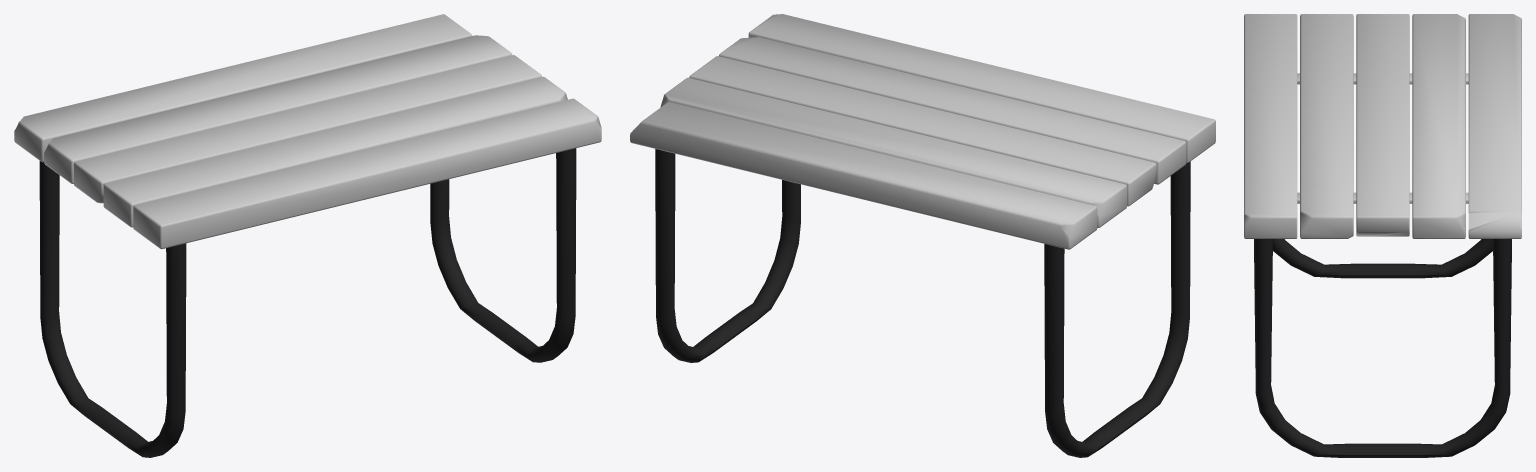
The model's file is Table-1__4p_.fbx.
The picture shows the model from 3 angles, left to right: view 1: azimuth 30°, elevation 25°; view 2: azimuth 150°, elevation 25°; view 3: azimuth 270°, elevation 25°; orthographic projection. The views are drawn at different scales.
Visible parts, largest first — view 1: Table-1 (4p); view 2: Table-1 (4p); view 3: Table-1 (4p).
Boxes of the visible parts, box(x1,y1,x2,y2) form: Table-1 (4p): box(14, 14, 601, 457); Table-1 (4p): box(630, 14, 1215, 457); Table-1 (4p): box(1244, 14, 1521, 457).
Size of the model in its own units: 1.3 by 0.7498 by 0.75.
